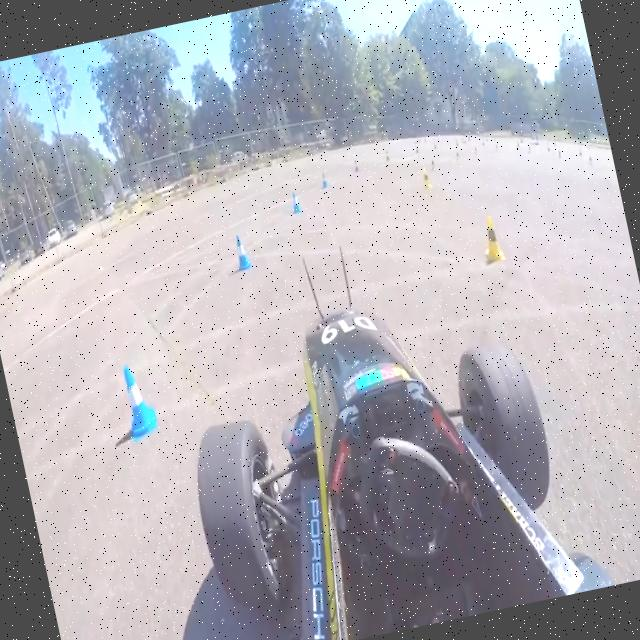blue_cone: (110, 354, 160, 436), (228, 230, 252, 272), (288, 190, 301, 214), (319, 169, 328, 189), (352, 158, 361, 175), (384, 148, 391, 163)
yellow_cone: (474, 204, 504, 264), (420, 164, 432, 192), (428, 154, 437, 172)
